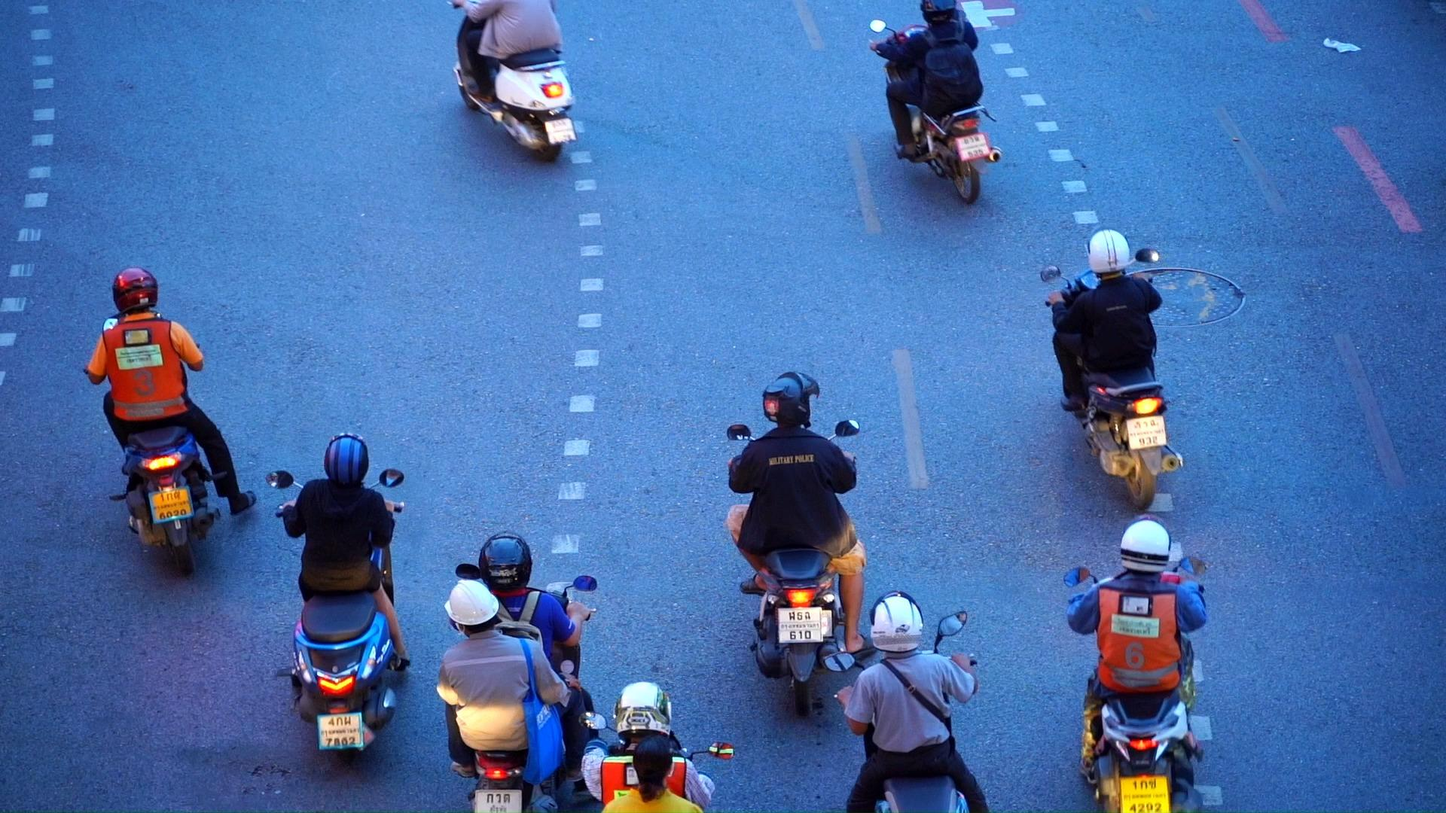driver: (82, 267, 257, 577), (727, 371, 881, 720), (266, 432, 412, 764), (437, 532, 599, 813), (1062, 513, 1211, 813), (1039, 223, 1185, 513), (822, 591, 991, 813), (869, 0, 1004, 205), (446, 0, 579, 164), (579, 681, 733, 813)
helmet: (613, 681, 672, 748), (869, 591, 924, 653), (478, 531, 532, 594), (762, 371, 820, 429), (444, 579, 499, 639), (1120, 513, 1171, 577), (324, 432, 369, 489), (1087, 223, 1131, 280), (112, 267, 158, 314), (920, 0, 956, 29)
no-helmet: (632, 735, 675, 803)
